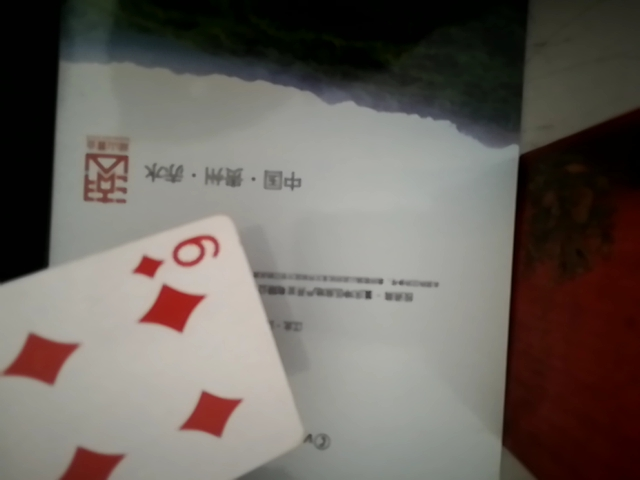fk 6: (0, 209, 315, 480)
